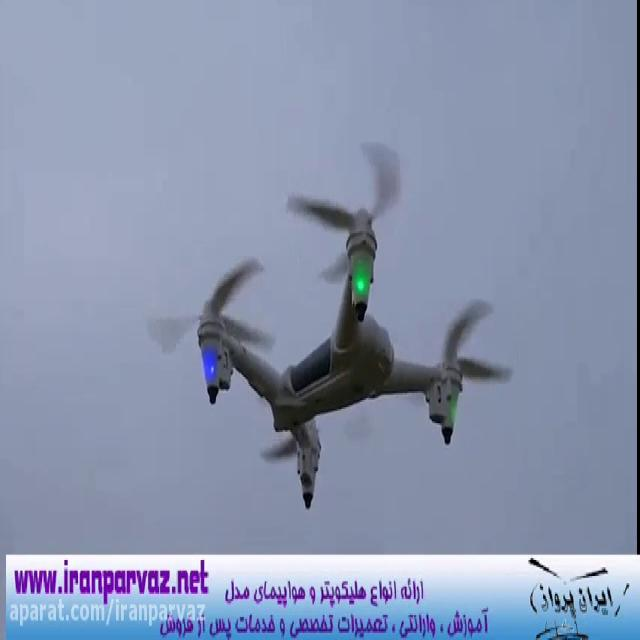drone: (140, 130, 520, 517)
